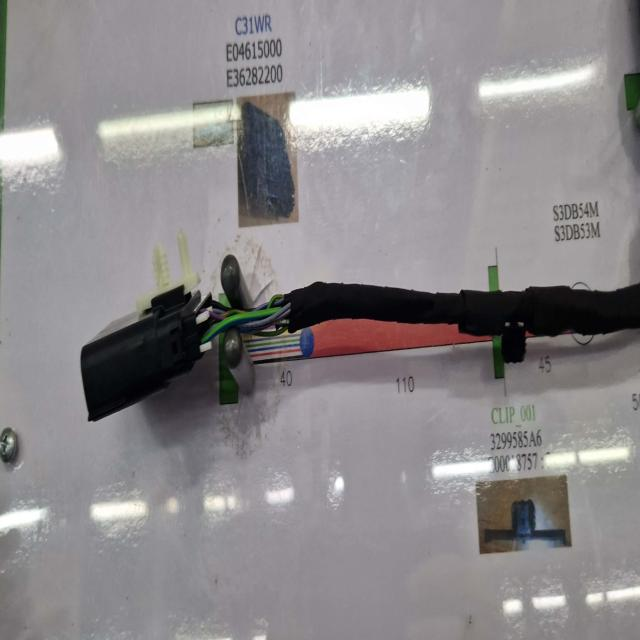Clip: (503, 319, 528, 361)
Connector: (80, 285, 204, 419)
Gape: (206, 284, 295, 343)
MHEV_N11_Cable: (291, 278, 630, 365)
